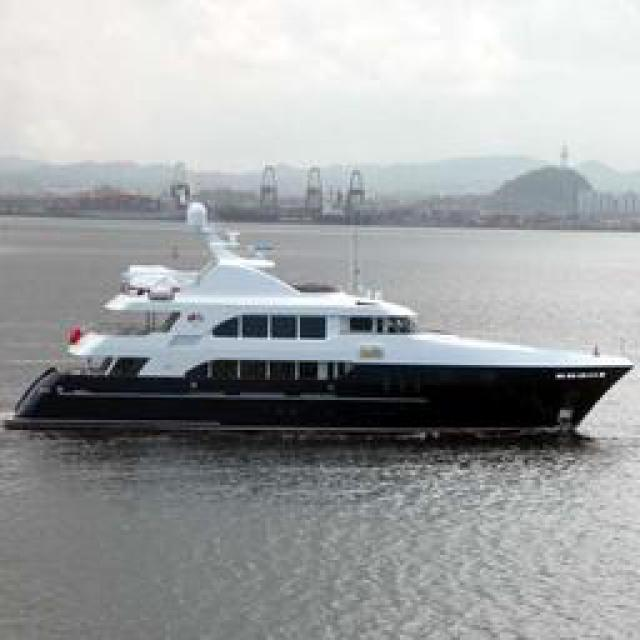Ship: (18, 215, 636, 433)
